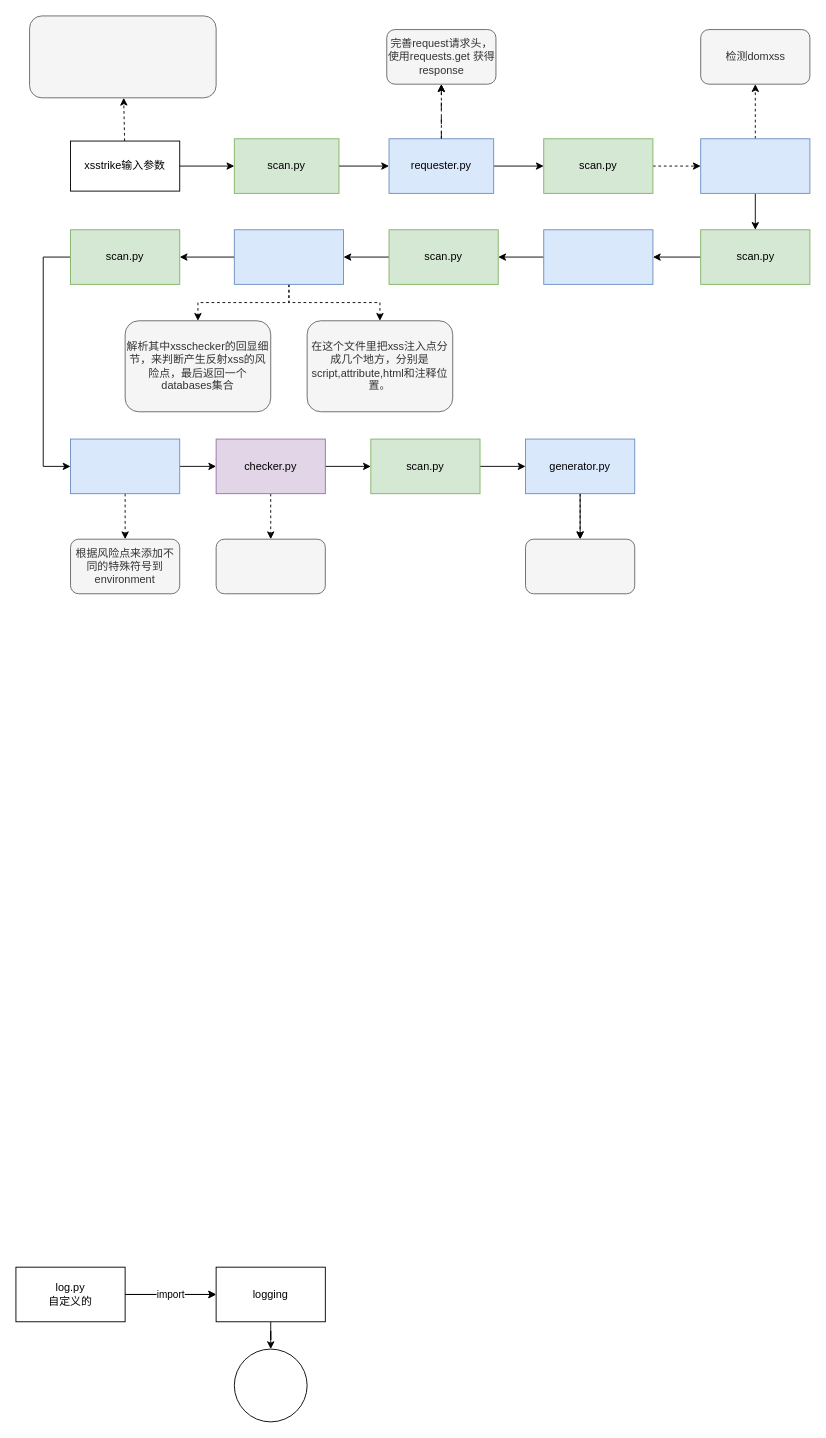
Some shapes in this 826 by 1438 pixel diagram are drawn without their labels. Here are the shapes that lost their labels. From the top down, the box of each, then its label:
(29, 15, 216, 98): --headers输入自定义的http标头， json格式处理， -file payload路径，seed等各种参数
(700, 138, 810, 193): dom.py
(233, 229, 344, 284): htmlParser.py
(543, 229, 653, 284): wafDetector.py
(70, 438, 180, 494): filterChecker.py
(215, 538, 325, 594): 打分
(525, 538, 635, 594): 生成payload
(233, 1348, 307, 1422): __init__.py 源代码
